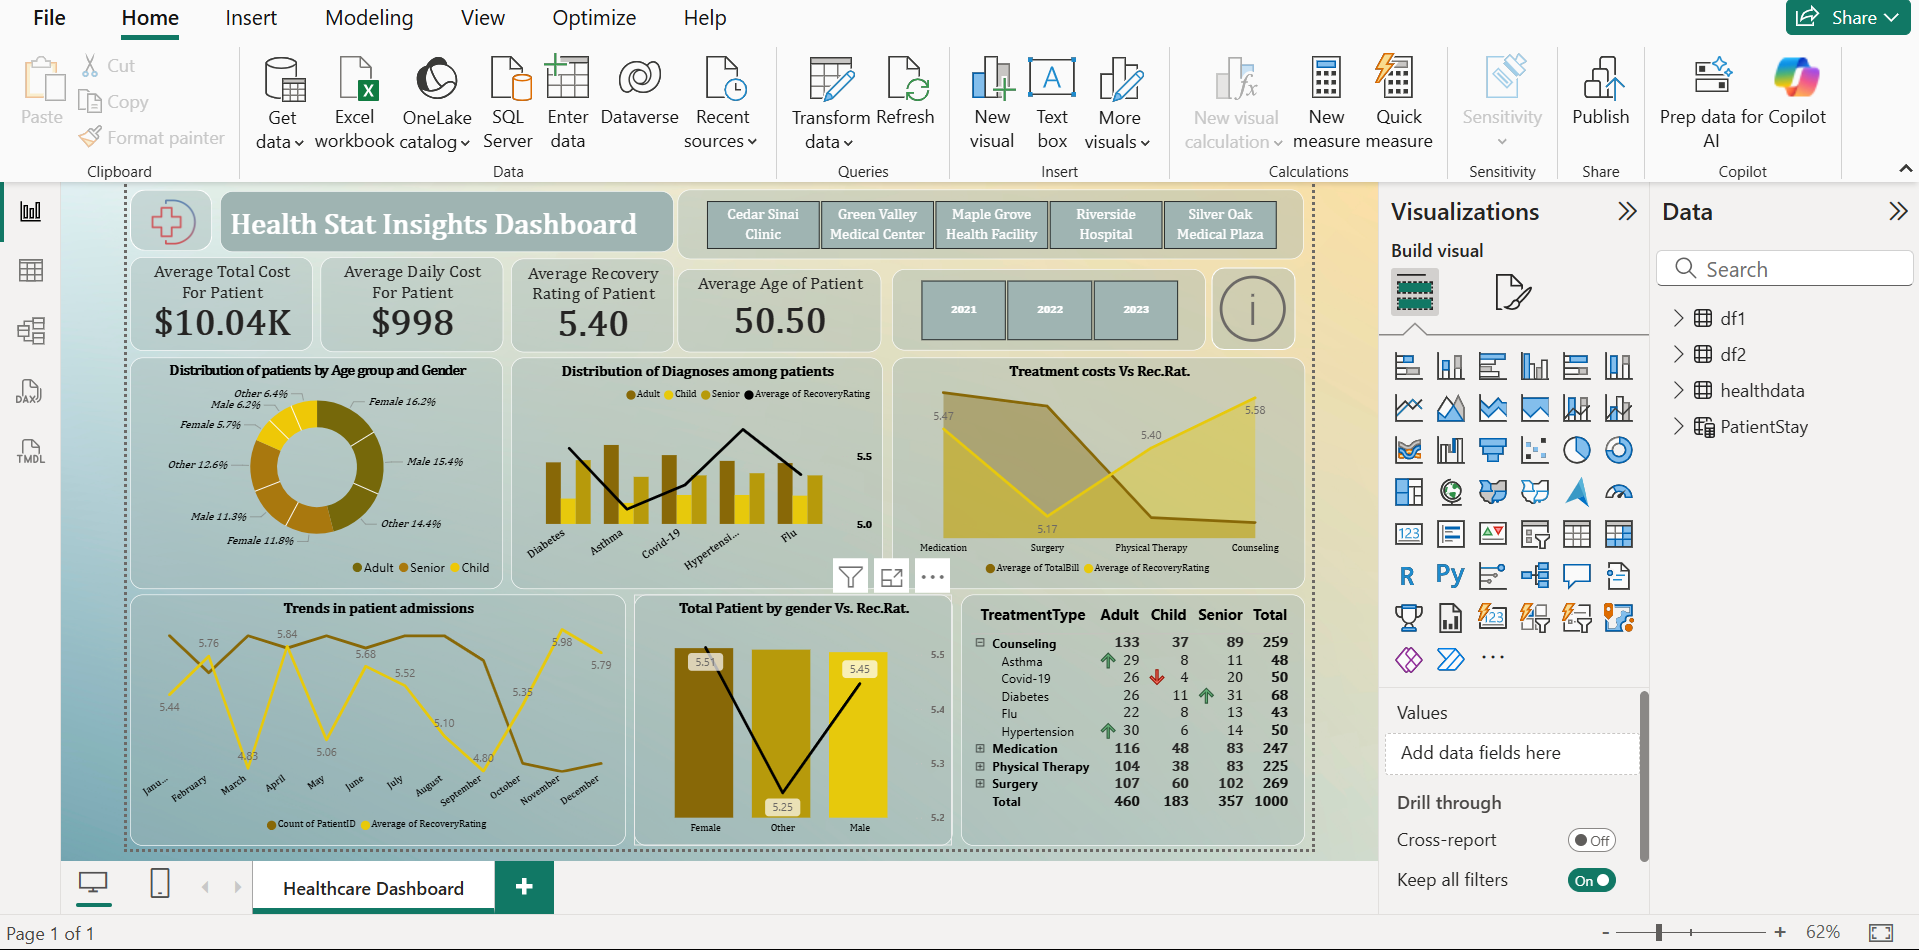

The page's visual inventory and layout, read from the dashboard file:
{"tool":"powerbi","page":{"name":"Healthcare Dashboard","canvas":[1280,720],"ordinal":0},"visuals":[{"type":"card","title":"Average Total Cost For Patient","fields":{"Values":["Avg(healthdata.TotalBill)"]},"box":[3.8,81.2,197.5,101.2],"z":0},{"type":"card","title":"Average Recovery Rating of Patient","fields":{"Values":["Avg(healthdata.RecoveryRating)"]},"box":[413.8,82.5,176.2,101.2],"z":1000},{"type":"card","title":"Average Daily Cost For Patient","fields":{"Values":["Avg(healthdata.DailyCost)"]},"box":[208.8,81.2,197.5,102.5],"z":2000},{"type":"card","title":"Average Age of Patient","fields":{"Values":["Avg(healthdata.Age)"]},"box":[595,93.8,220,90],"z":3000},{"type":"textbox","box":[100,10,490,66.2],"z":4000},{"type":"image","box":[0,5,100,76.2],"z":5000},{"type":"shape","box":[3.8,8.8,88.8,66.2],"z":6000},{"type":"slicer","fields":{"Values":["healthdata.AdmissionDate.Variation.Date Hierarchy.Year"]},"box":[826.3,94.1,338.6,88],"z":7000},{"type":"slicer","fields":{"Values":["healthdata.Hospital"]},"box":[595,7.5,676.2,75],"z":8000},{"type":"donutChart","title":"Distribution of patients by Age group and Gender","fields":{"Category":["healthdata.AgeGroup"],"Y":["CountNonNull(healthdata.Age)"],"Series":["healthdata.Gender"]},"box":[3.8,188.8,402.5,250],"z":9000},{"type":"lineClusteredColumnComboChart","title":"Distribution of Diagnoses among patients","fields":{"Category":["healthdata.Diagnosis"],"Series":["healthdata.AgeGroup"],"Y2":["Avg(healthdata.RecoveryRating)"],"Y":["CountNonNull(healthdata.PatientID)"]},"box":[413.8,188.8,401.2,250],"z":10000},{"type":"areaChart","title":"Treatment costs Vs Rec.Rat.","fields":{"Category":["healthdata.TreatmentType"],"Y":["Avg(healthdata.TotalBill)"],"Y2":["Avg(healthdata.RecoveryRating)"]},"box":[825,188.8,446.2,250],"z":11000},{"type":"lineChart","title":"Trends in patient admissions","fields":{"Category":["healthdata.AdmissionDate.Variation.Date Hierarchy.Month"],"Y":["CountNonNull(healthdata.PatientID)"],"Y2":["Avg(healthdata.RecoveryRating)"]},"box":[3.8,445,535,271.2],"z":12000},{"type":"lineStackedColumnComboChart","title":"Total Patient by gender Vs. Rec.Rat.","fields":{"Y":["CountNonNull(healthdata.PatientID)"],"Y2":["Avg(healthdata.RecoveryRating)"],"Category":["healthdata.Gender"]},"box":[547.5,445,343.8,271.2],"z":13000},{"type":"pivotTable","fields":{"Rows":["healthdata.TreatmentType","healthdata.Diagnosis"],"Columns":["healthdata.AgeGroup"],"Values":["CountNonNull(healthdata.PatientID)"]},"box":[900,445,371.2,271.2],"z":14000},{"type":"actionButton","box":[1170.3,92.2,90.6,89.1],"z":16000}]}

Visuals, with their boxes on the page's 1280x720 design canvas (x1, y1, x2, y2). These are canvas units, not pixel positions in the 1919x950 screenshot, which may show the page scaled, cropped or inside an application window:
"Average Total Cost For Patient" card: detection(4, 81, 201, 182)
"Average Recovery Rating of Patient" card: detection(414, 82, 590, 184)
"Average Daily Cost For Patient" card: detection(209, 81, 406, 184)
"Average Age of Patient" card: detection(595, 94, 815, 184)
textbox: detection(100, 10, 590, 76)
image: detection(0, 5, 100, 81)
shape: detection(4, 9, 93, 75)
slicer - healthdata.AdmissionDate.Variation.Date Hierarchy.Year: detection(826, 94, 1165, 182)
slicer - healthdata.Hospital: detection(595, 8, 1271, 82)
"Distribution of patients by Age group and Gender" donutChart: detection(4, 189, 406, 439)
"Distribution of Diagnoses among patients" lineClusteredColumnComboChart: detection(414, 189, 815, 439)
"Treatment costs Vs Rec.Rat." areaChart: detection(825, 189, 1271, 439)
"Trends in patient admissions" lineChart: detection(4, 445, 539, 716)
"Total Patient by gender Vs. Rec.Rat." lineStackedColumnComboChart: detection(548, 445, 891, 716)
pivotTable - healthdata.TreatmentType x healthdata.Diagnosis: detection(900, 445, 1271, 716)
actionButton: detection(1170, 92, 1261, 181)
